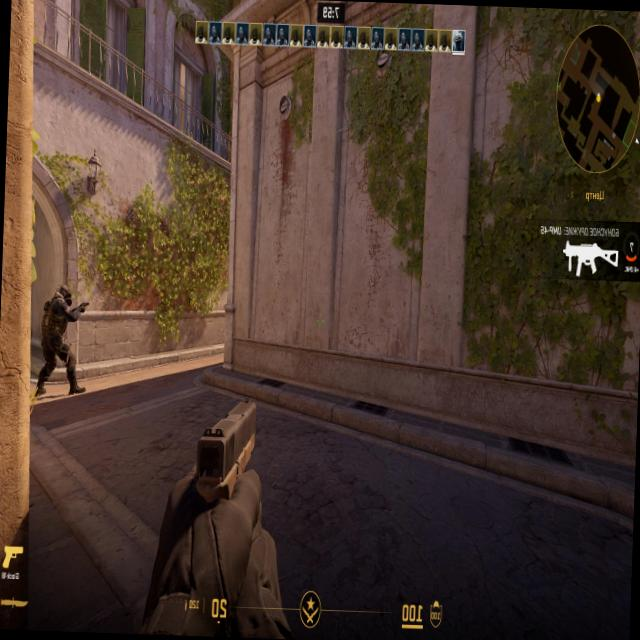CT: (44, 285, 71, 378)
CT_heat: (58, 282, 71, 307)
